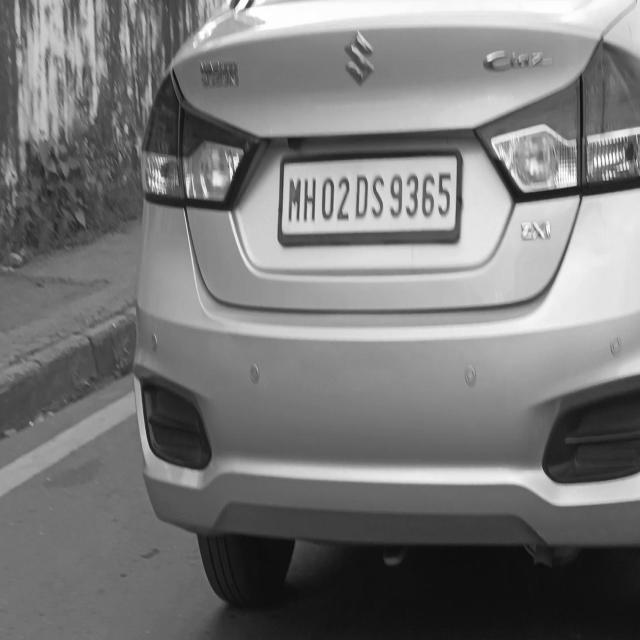license-plate: (280, 156, 458, 240)
